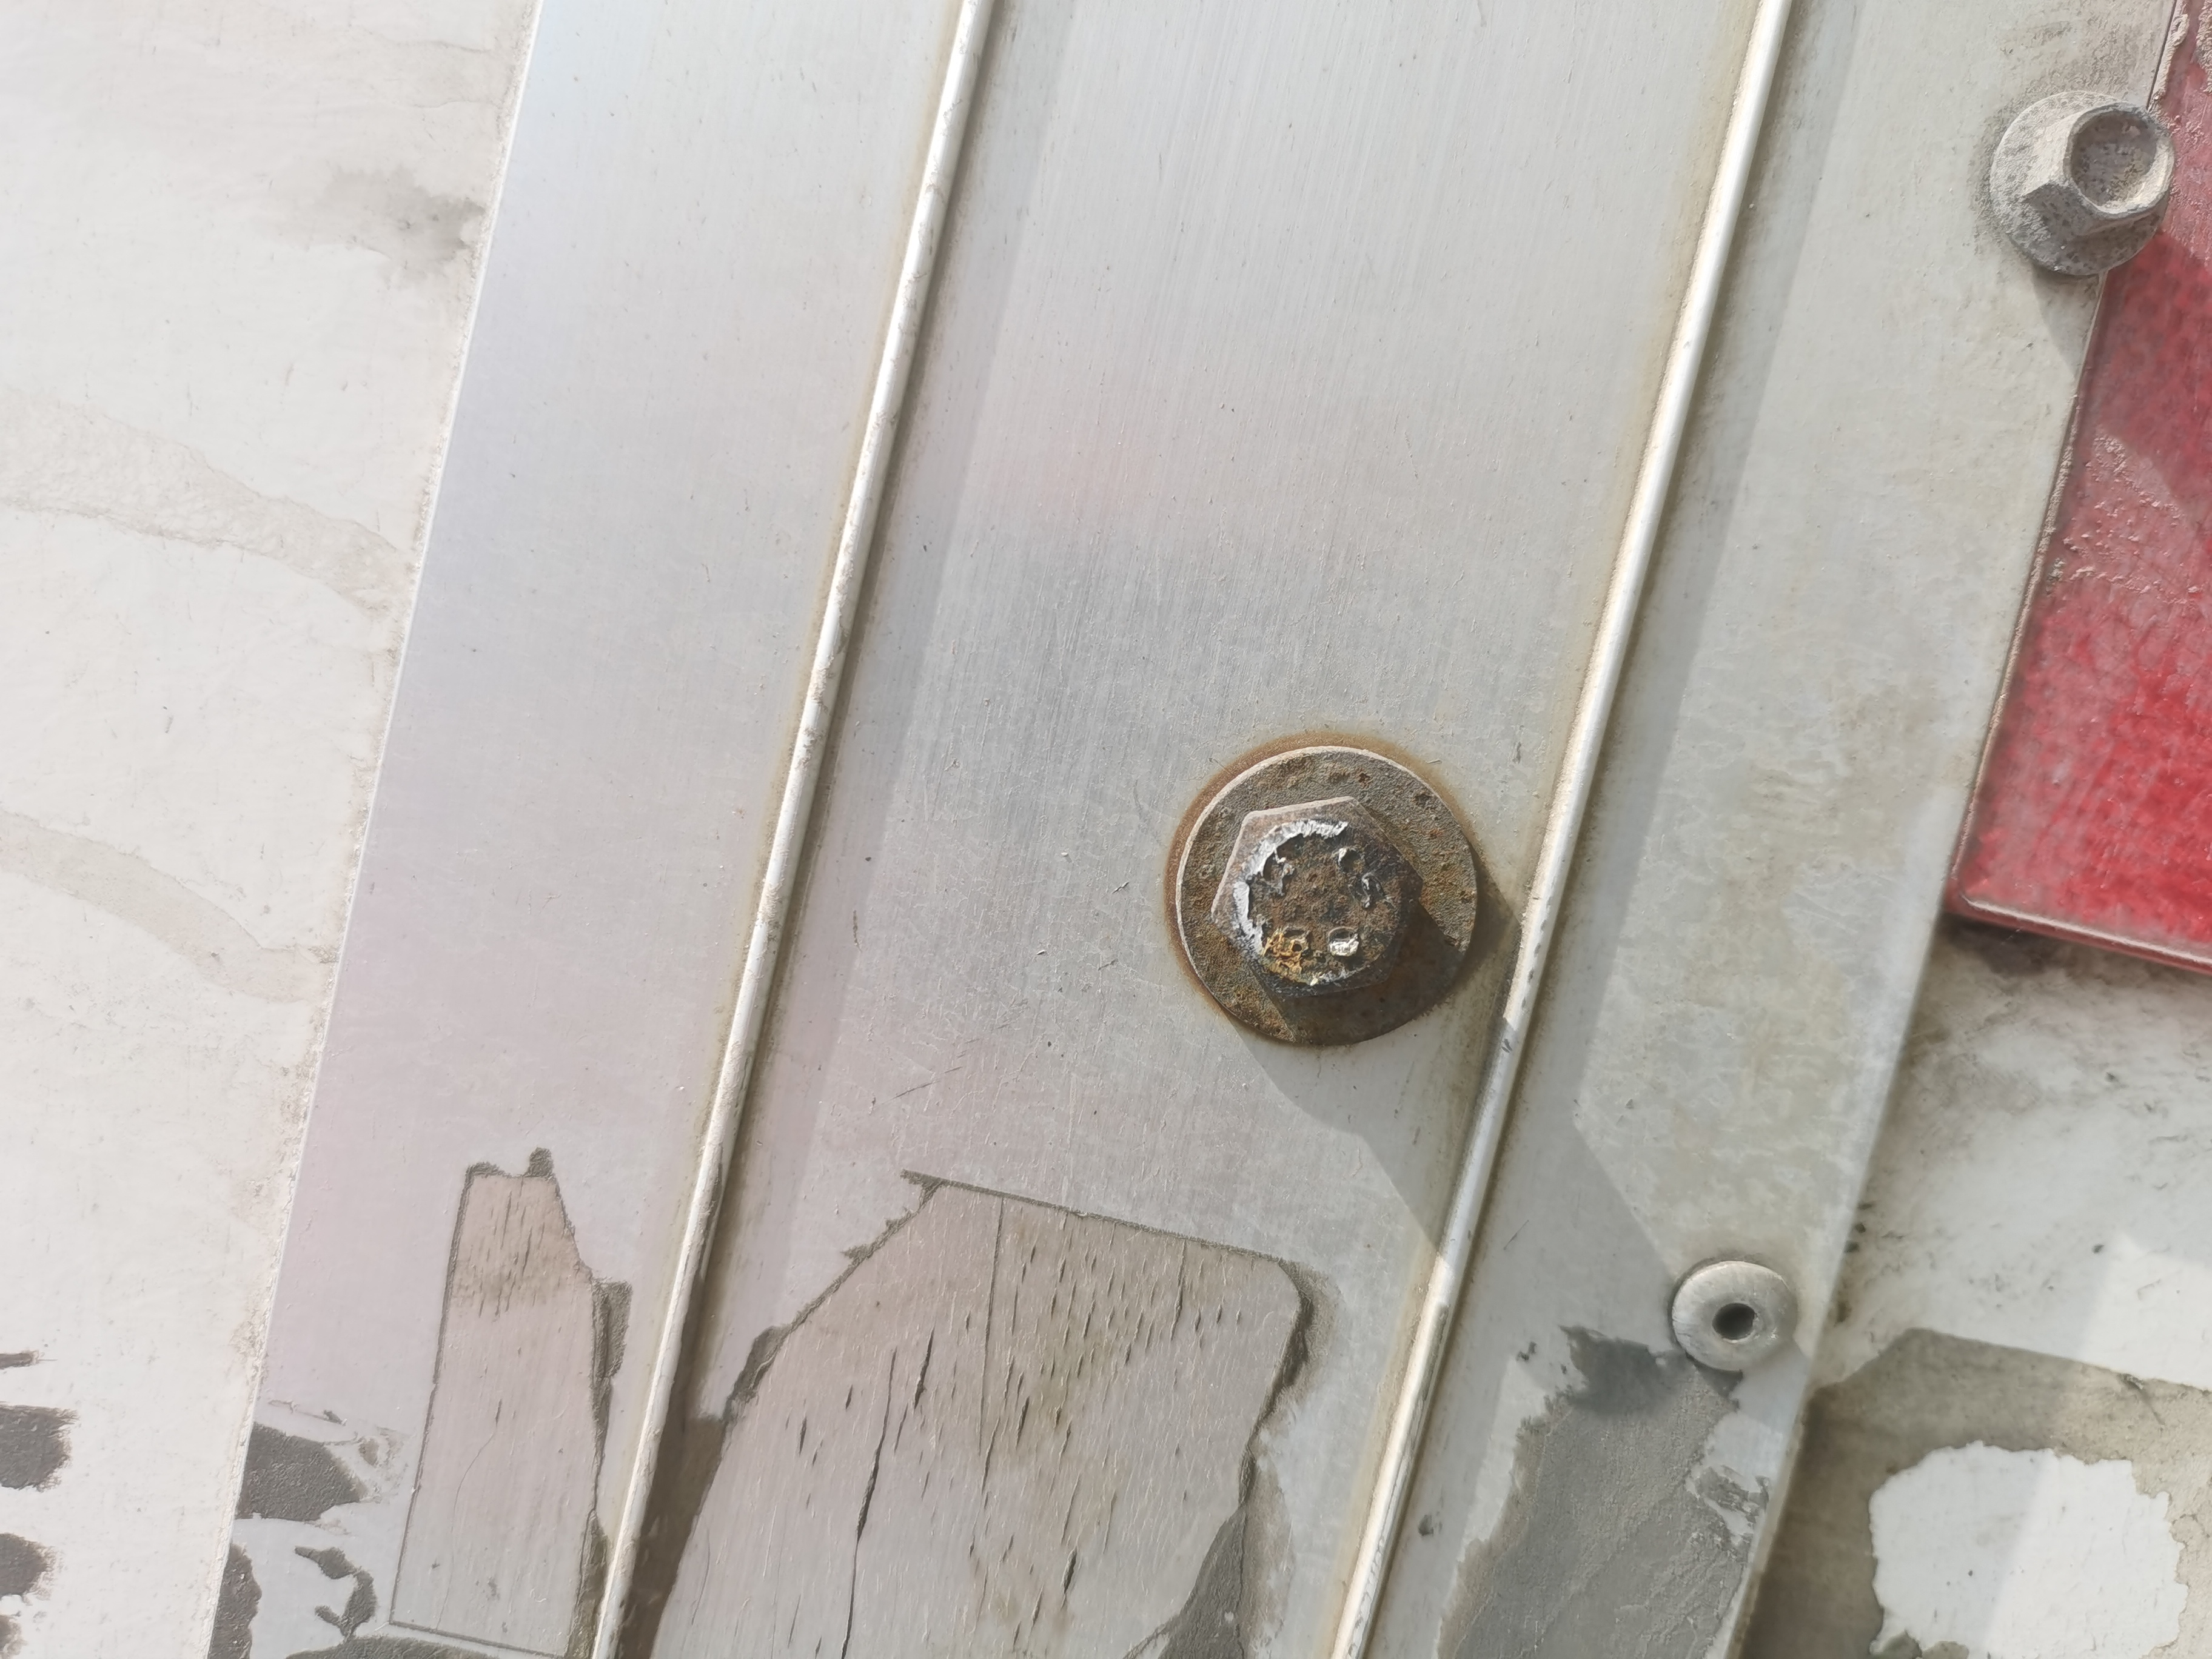bolt_a: (1207, 791, 1432, 1012)
bolt_b: (2020, 94, 2179, 244)
